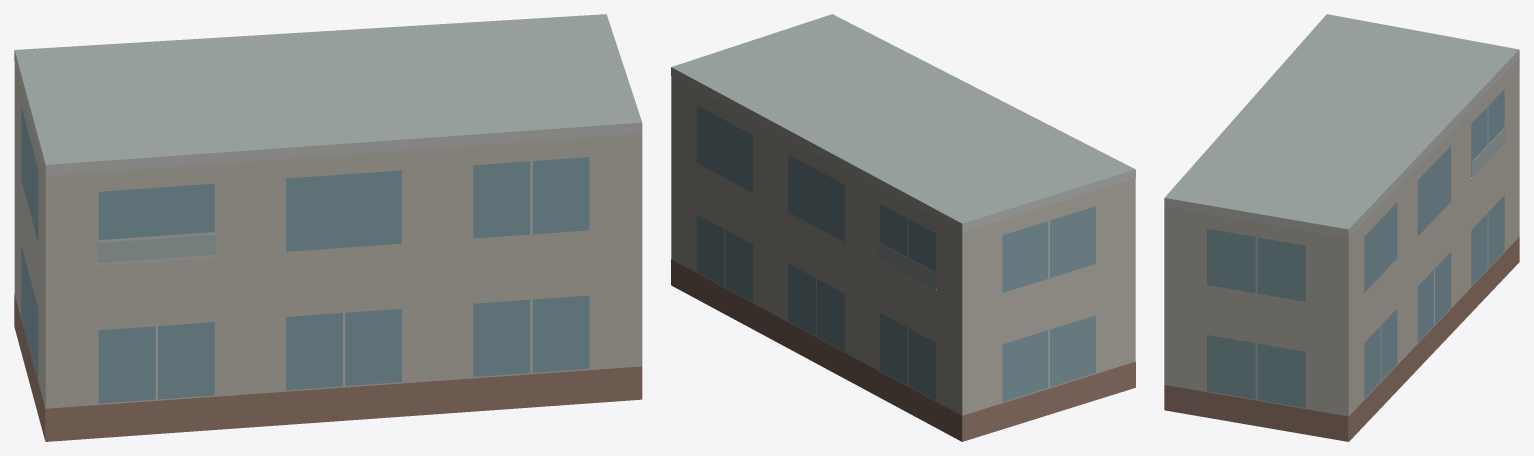
Rendered from survey-upis-32810670.glb.
3 views of the same model, side by side, from view 1: azimuth 30°, elevation 25°; view 2: azimuth 150°, elevation 25°; view 3: azimuth 270°, elevation 25° (orthographic). The views are drawn at different scales.
Visible parts, largest first — view 1: survey-upis-32810670.tmp; view 2: survey-upis-32810670.tmp; view 3: survey-upis-32810670.tmp.
Part boxes in pixels (left/top/right/bottom): survey-upis-32810670.tmp: left=14, top=14, right=642, bottom=441; survey-upis-32810670.tmp: left=671, top=14, right=1135, bottom=441; survey-upis-32810670.tmp: left=1164, top=14, right=1519, bottom=441.
Bounding box in the file's own units: 13.28 × 6.1 × 9.25.
